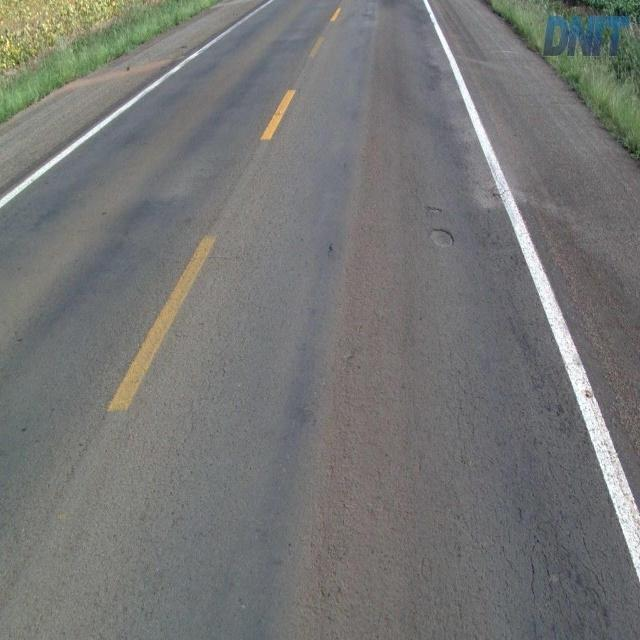pothole: (424, 200, 456, 249)
